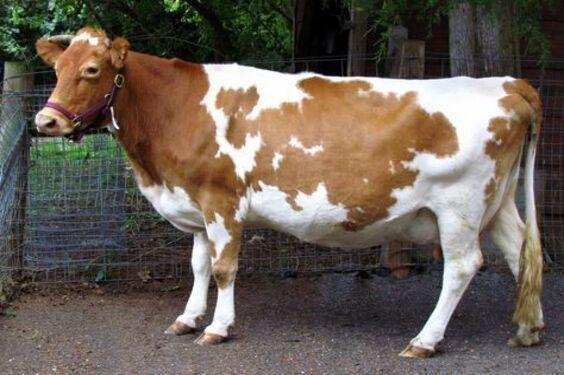cow: (33, 18, 560, 362)
